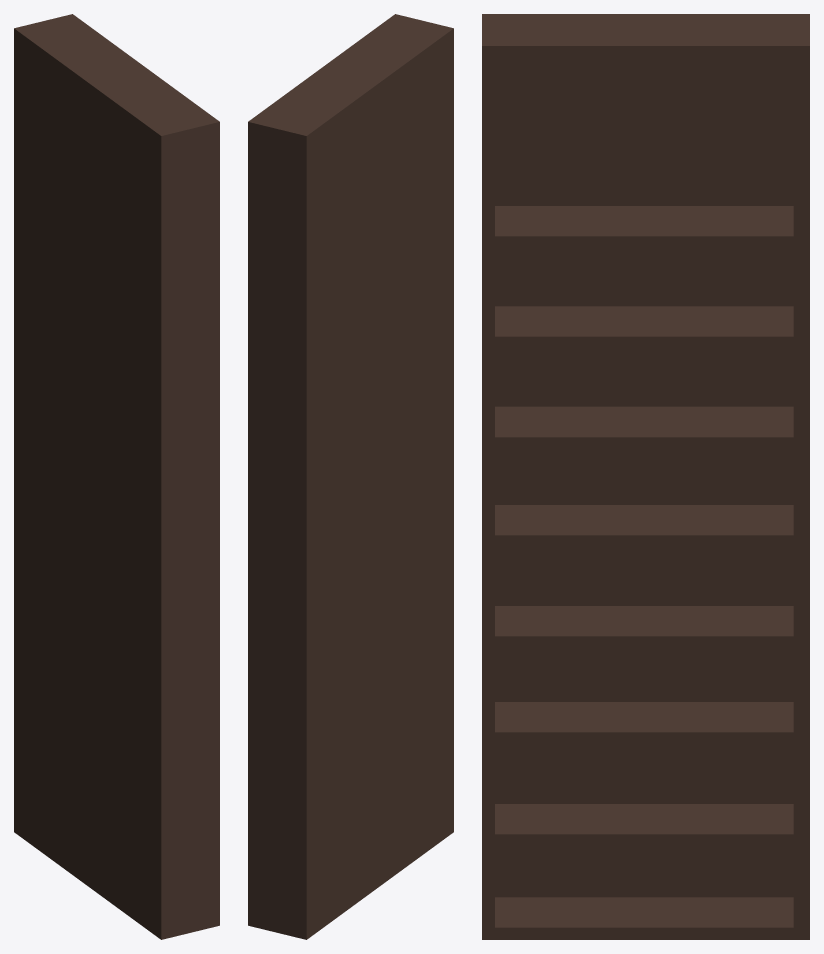
Rendered from Tall_cabinet.fbx.
The picture shows the model from 3 angles, left to right: view 1: azimuth 30°, elevation 25°; view 2: azimuth 150°, elevation 25°; view 3: azimuth 270°, elevation 25°; orthographic projection. The views are drawn at different scales.
Parts seen in each view (by area): view 1: cabinet; view 2: cabinet; view 3: cabinet.
Part boxes in pixels (x1,y1,x2,y2): cabinet: (14,14,219,939); cabinet: (248,14,453,939); cabinet: (482,14,809,939).
Bounding box in the file's own units: 1.5 × 19.63 × 6.52.
